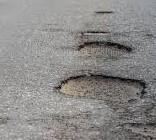pothole: (50, 65, 148, 108), (71, 35, 135, 57), (115, 115, 156, 140), (71, 25, 118, 38), (95, 7, 119, 17)
